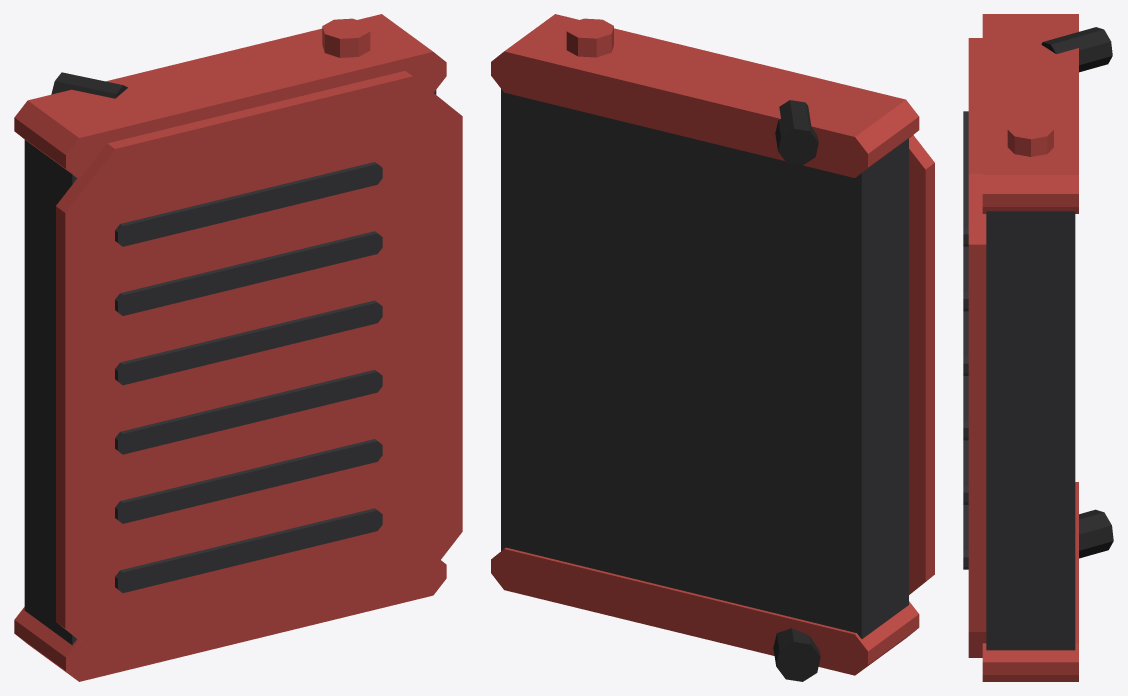
The model's file is side_lod1.glb.
3 renders of one model, left to right at view 1: azimuth 30°, elevation 25°; view 2: azimuth 150°, elevation 25°; view 3: azimuth 270°, elevation 25°, orthographic. The views are drawn at different scales.
Visible parts, largest first — view 1: side_lod1; view 2: side_lod1; view 3: side_lod1.
Boxes of the visible parts, x1,y1,x2,y2 form: side_lod1: (14,14,462,681); side_lod1: (491,14,934,681); side_lod1: (963,14,1113,681).
Bounding box in the file's own units: 0.24 × 0.3298 × 0.0845.
